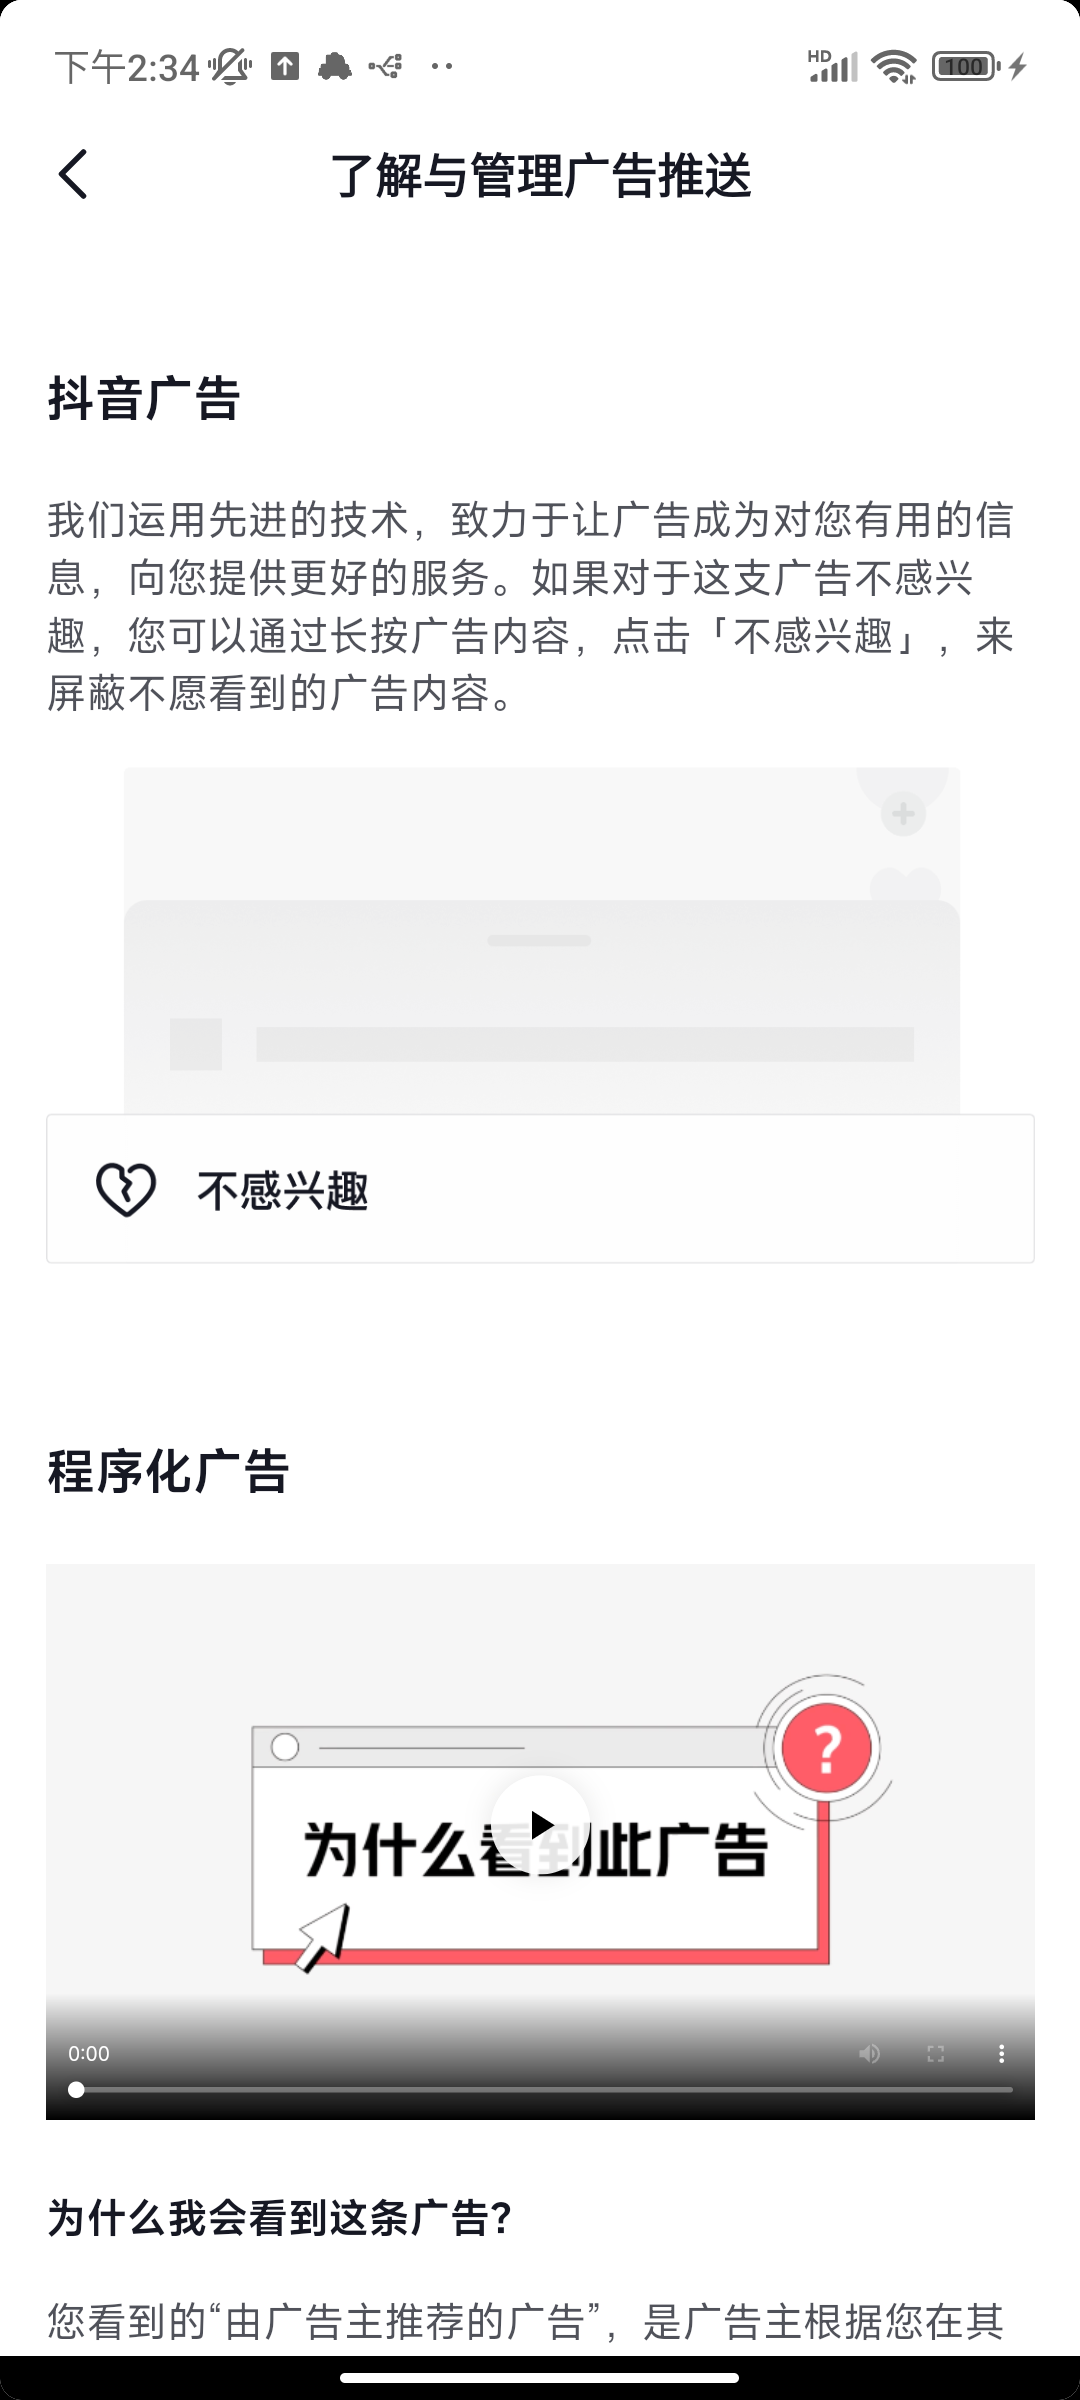ui_group: (46, 1123, 1025, 1261)
